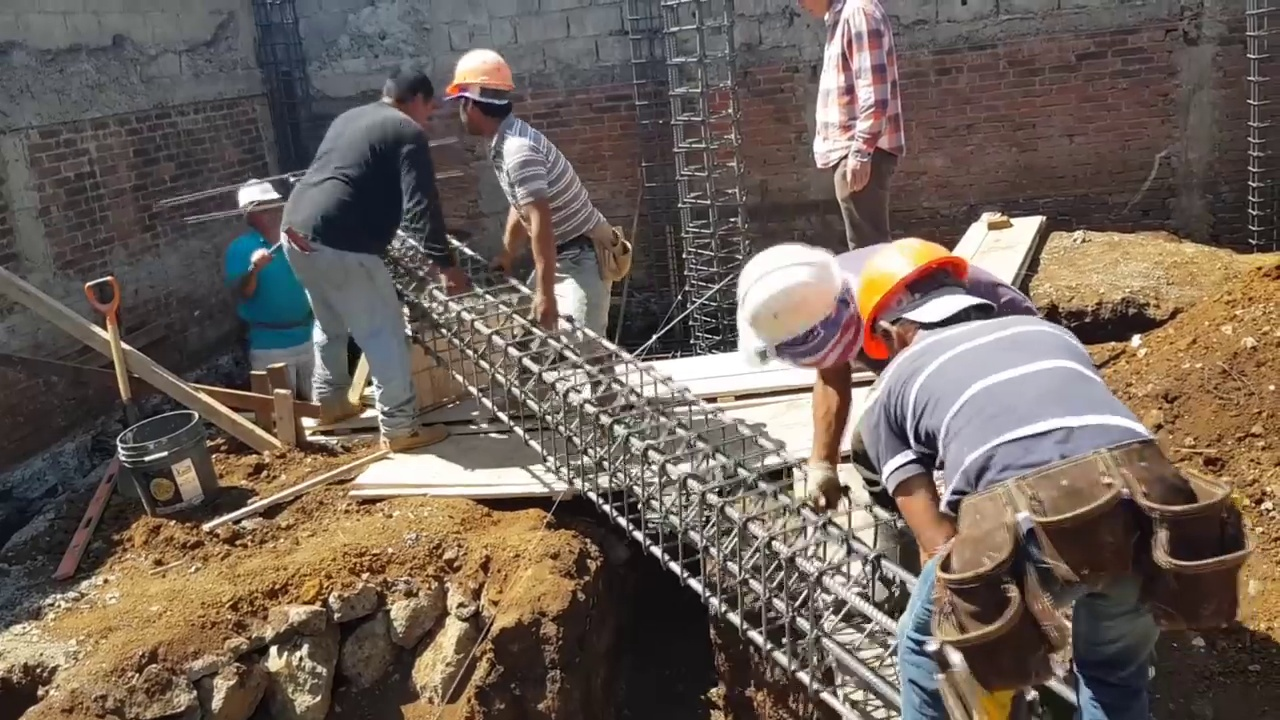helmet: (847, 240, 968, 365), (735, 241, 840, 366), (446, 51, 511, 105), (236, 173, 283, 216)
helmet-off: (375, 64, 439, 118)
helmet-on: (847, 235, 1003, 362), (735, 239, 873, 376), (444, 50, 518, 140), (235, 175, 282, 246)
person: (845, 238, 1235, 720), (724, 236, 1044, 519), (284, 56, 457, 464), (453, 57, 626, 371), (806, 2, 904, 251), (217, 175, 318, 402)
